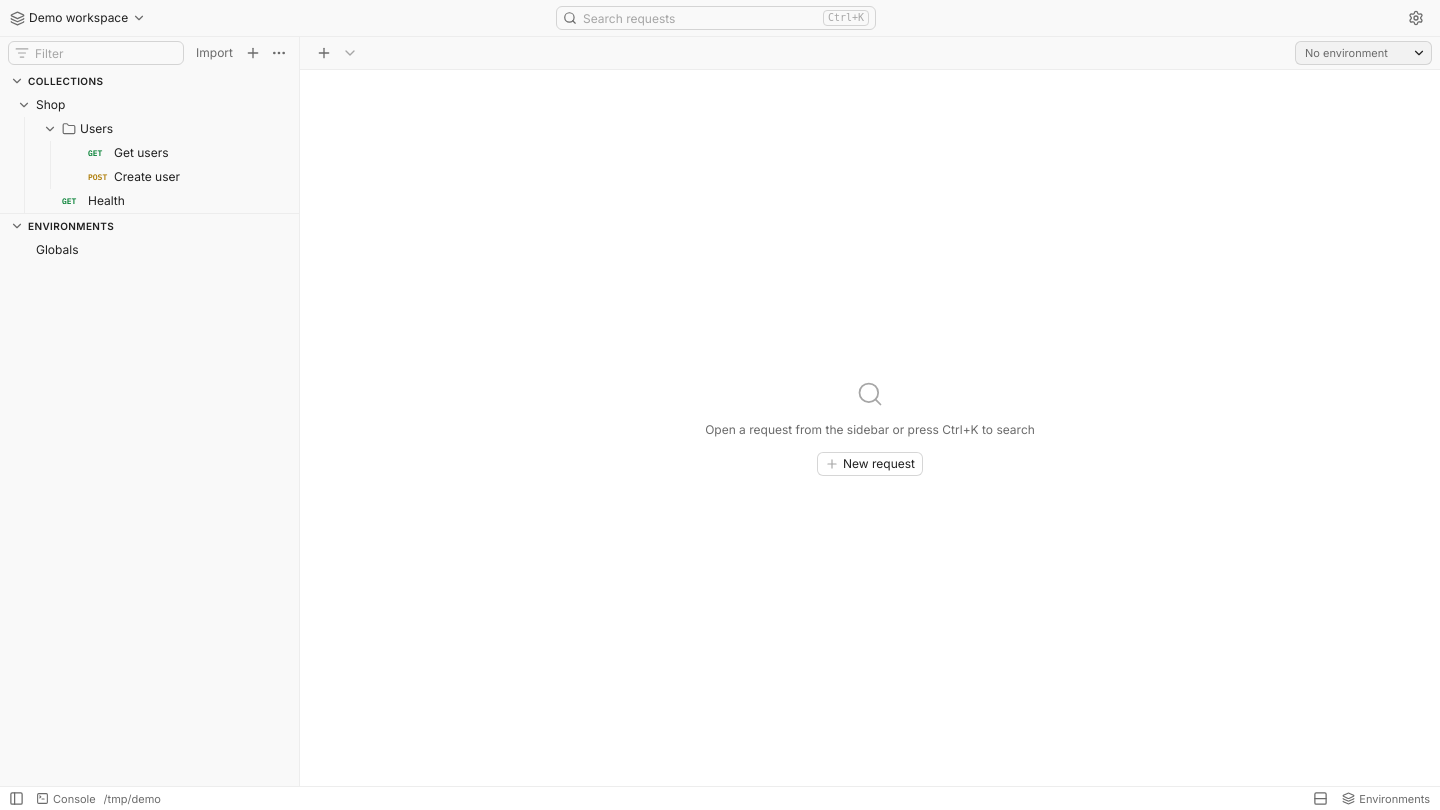
Test case: configuration › Iterations = 0 is valid: false
This screenshot has width=1440, height=810.
Right-click the list item "Shop" at {"x": 99, "y": 152}, box [17,97,180,208]
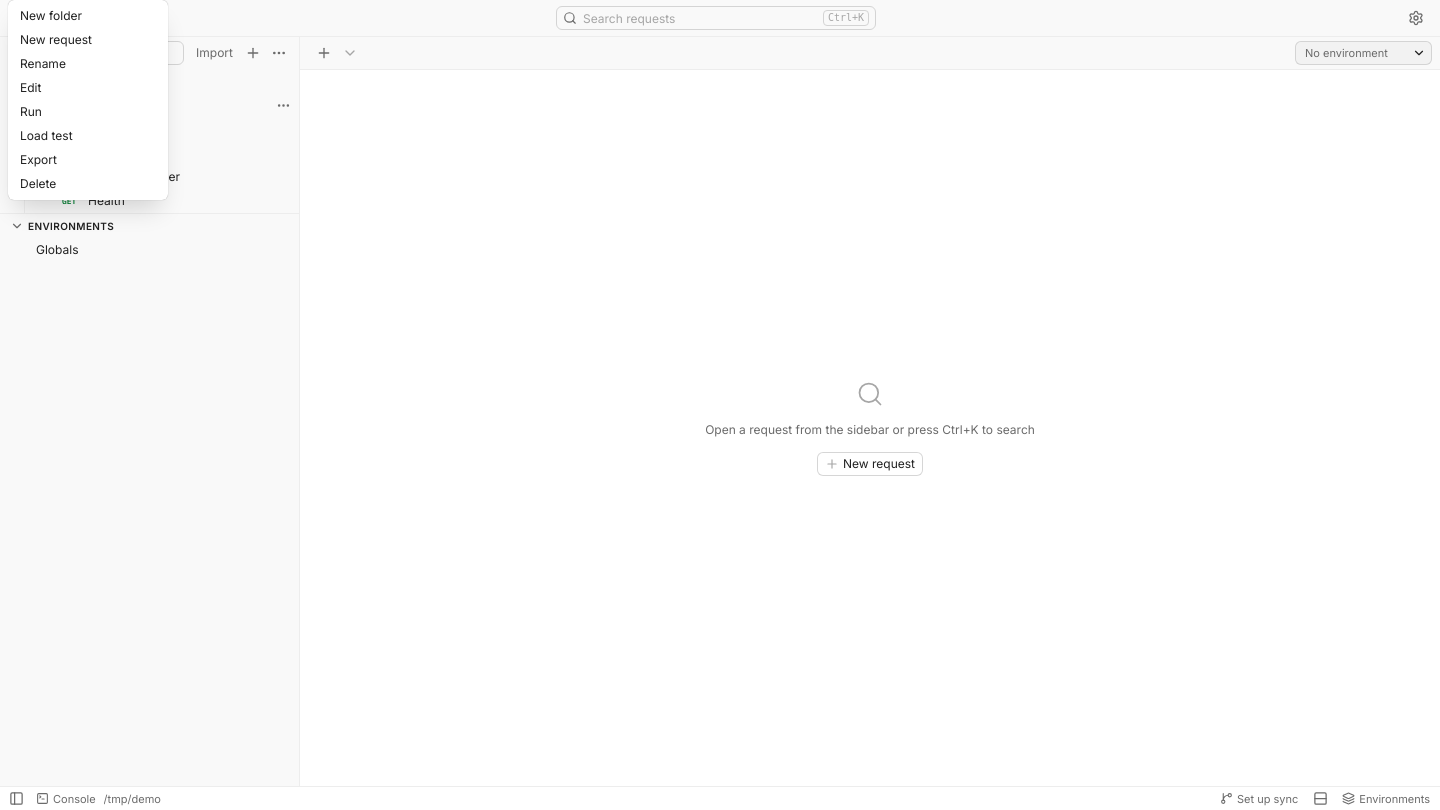
Click the menu item "Run" at {"x": 88, "y": 112}, box [12,100,164,124]
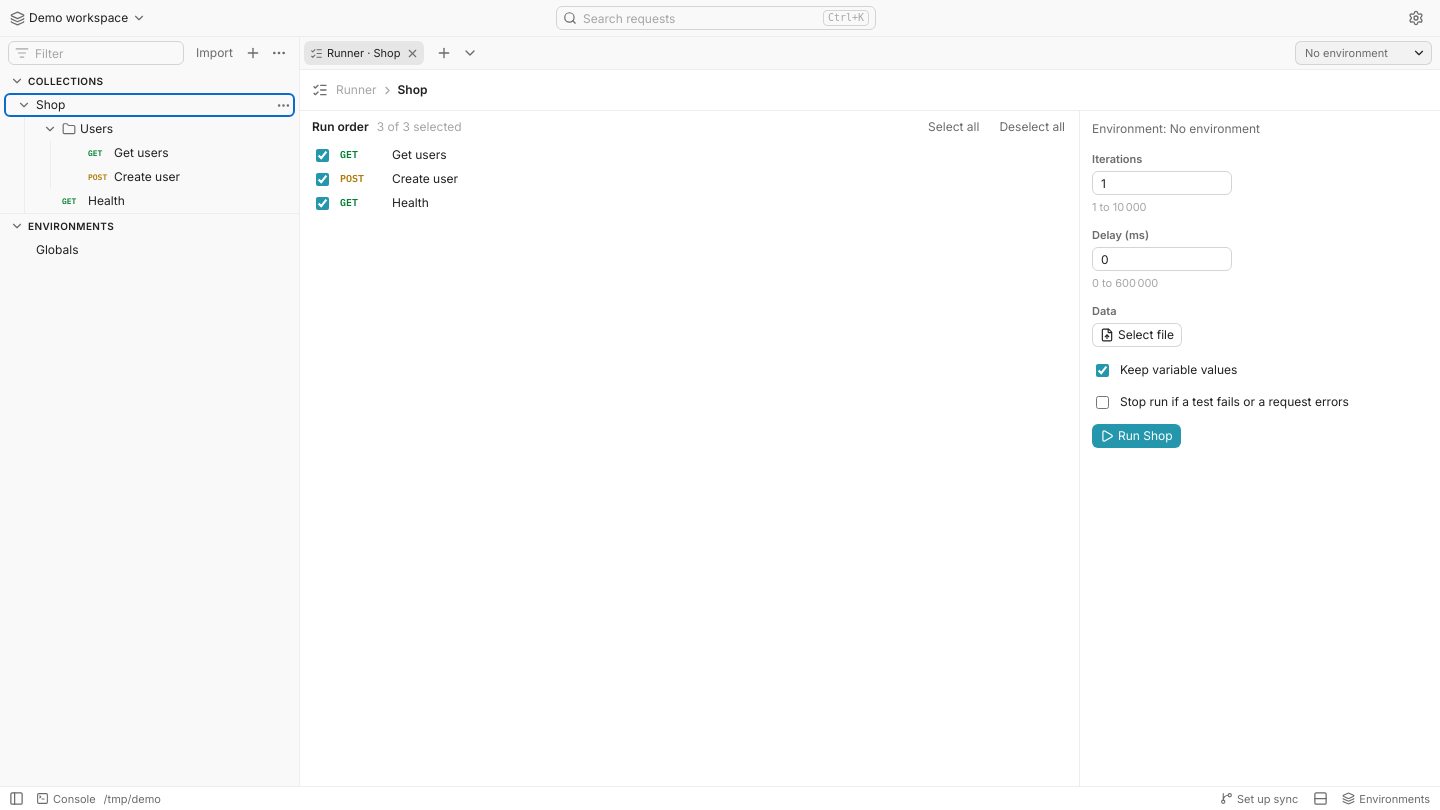
Replace the text in the number field labelled "Iterations" with "0" at {"x": 1162, "y": 183}, box [1092,171,1232,195]
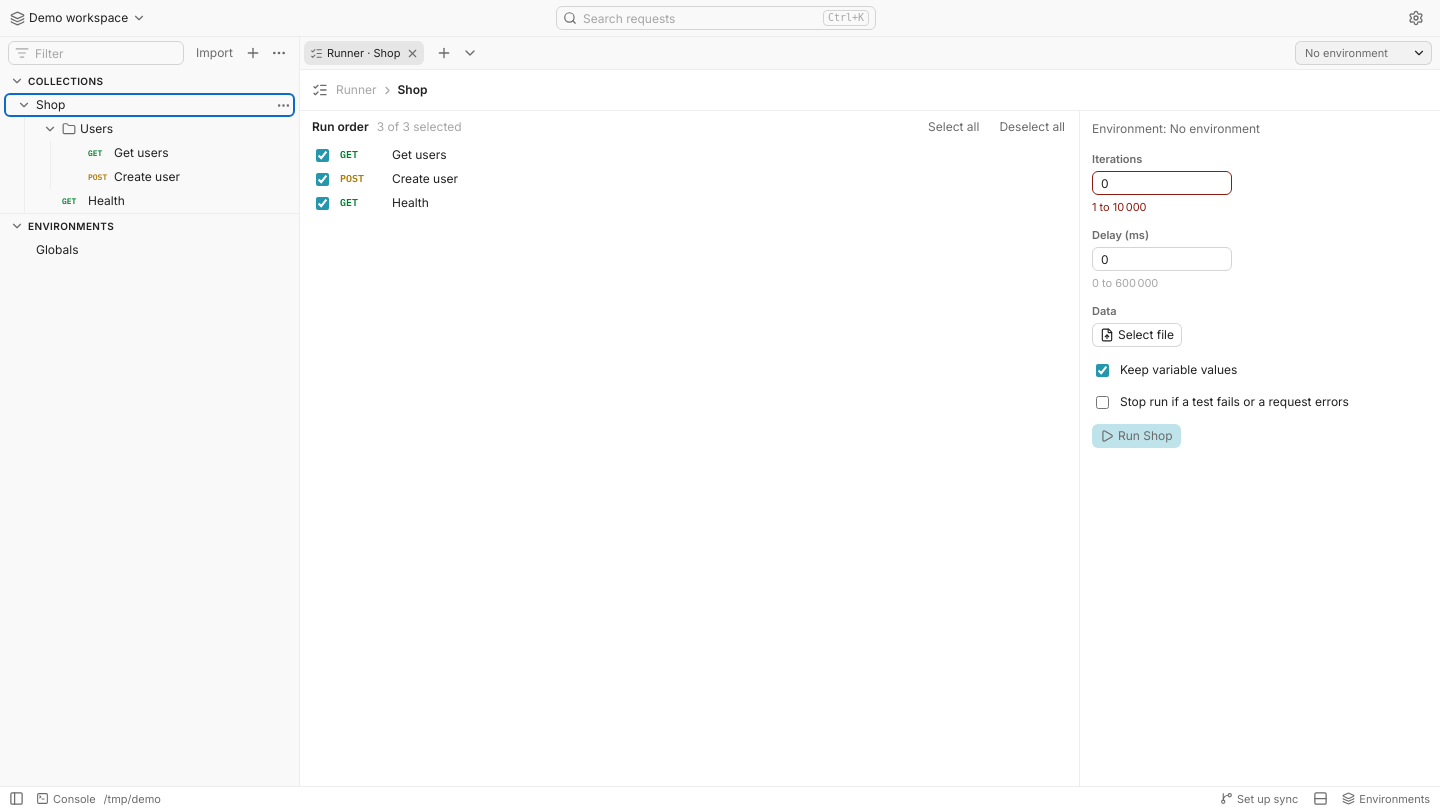
Result: the button "Run Shop" is disabled at [1092,424,1181,448]
